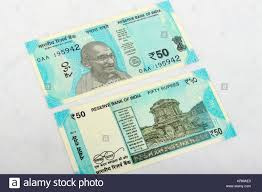fifty: (36, 44, 186, 81)
